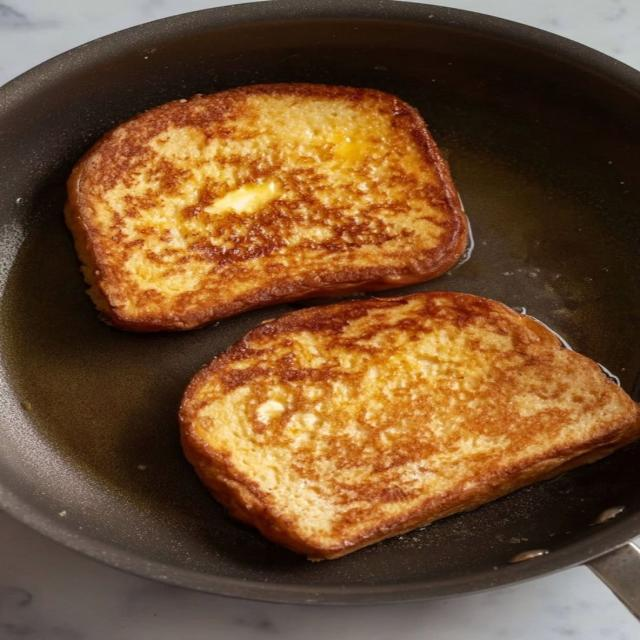toast bread: (180, 293, 639, 559), (67, 84, 466, 331)
